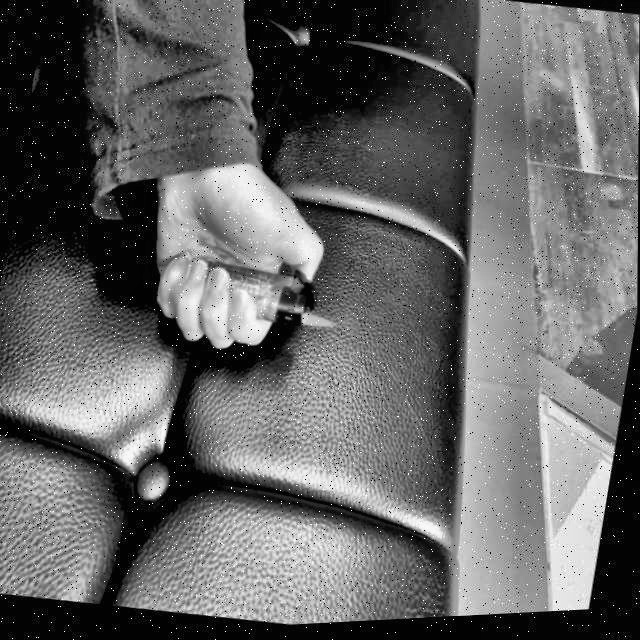Fire: (300, 310, 339, 332)
